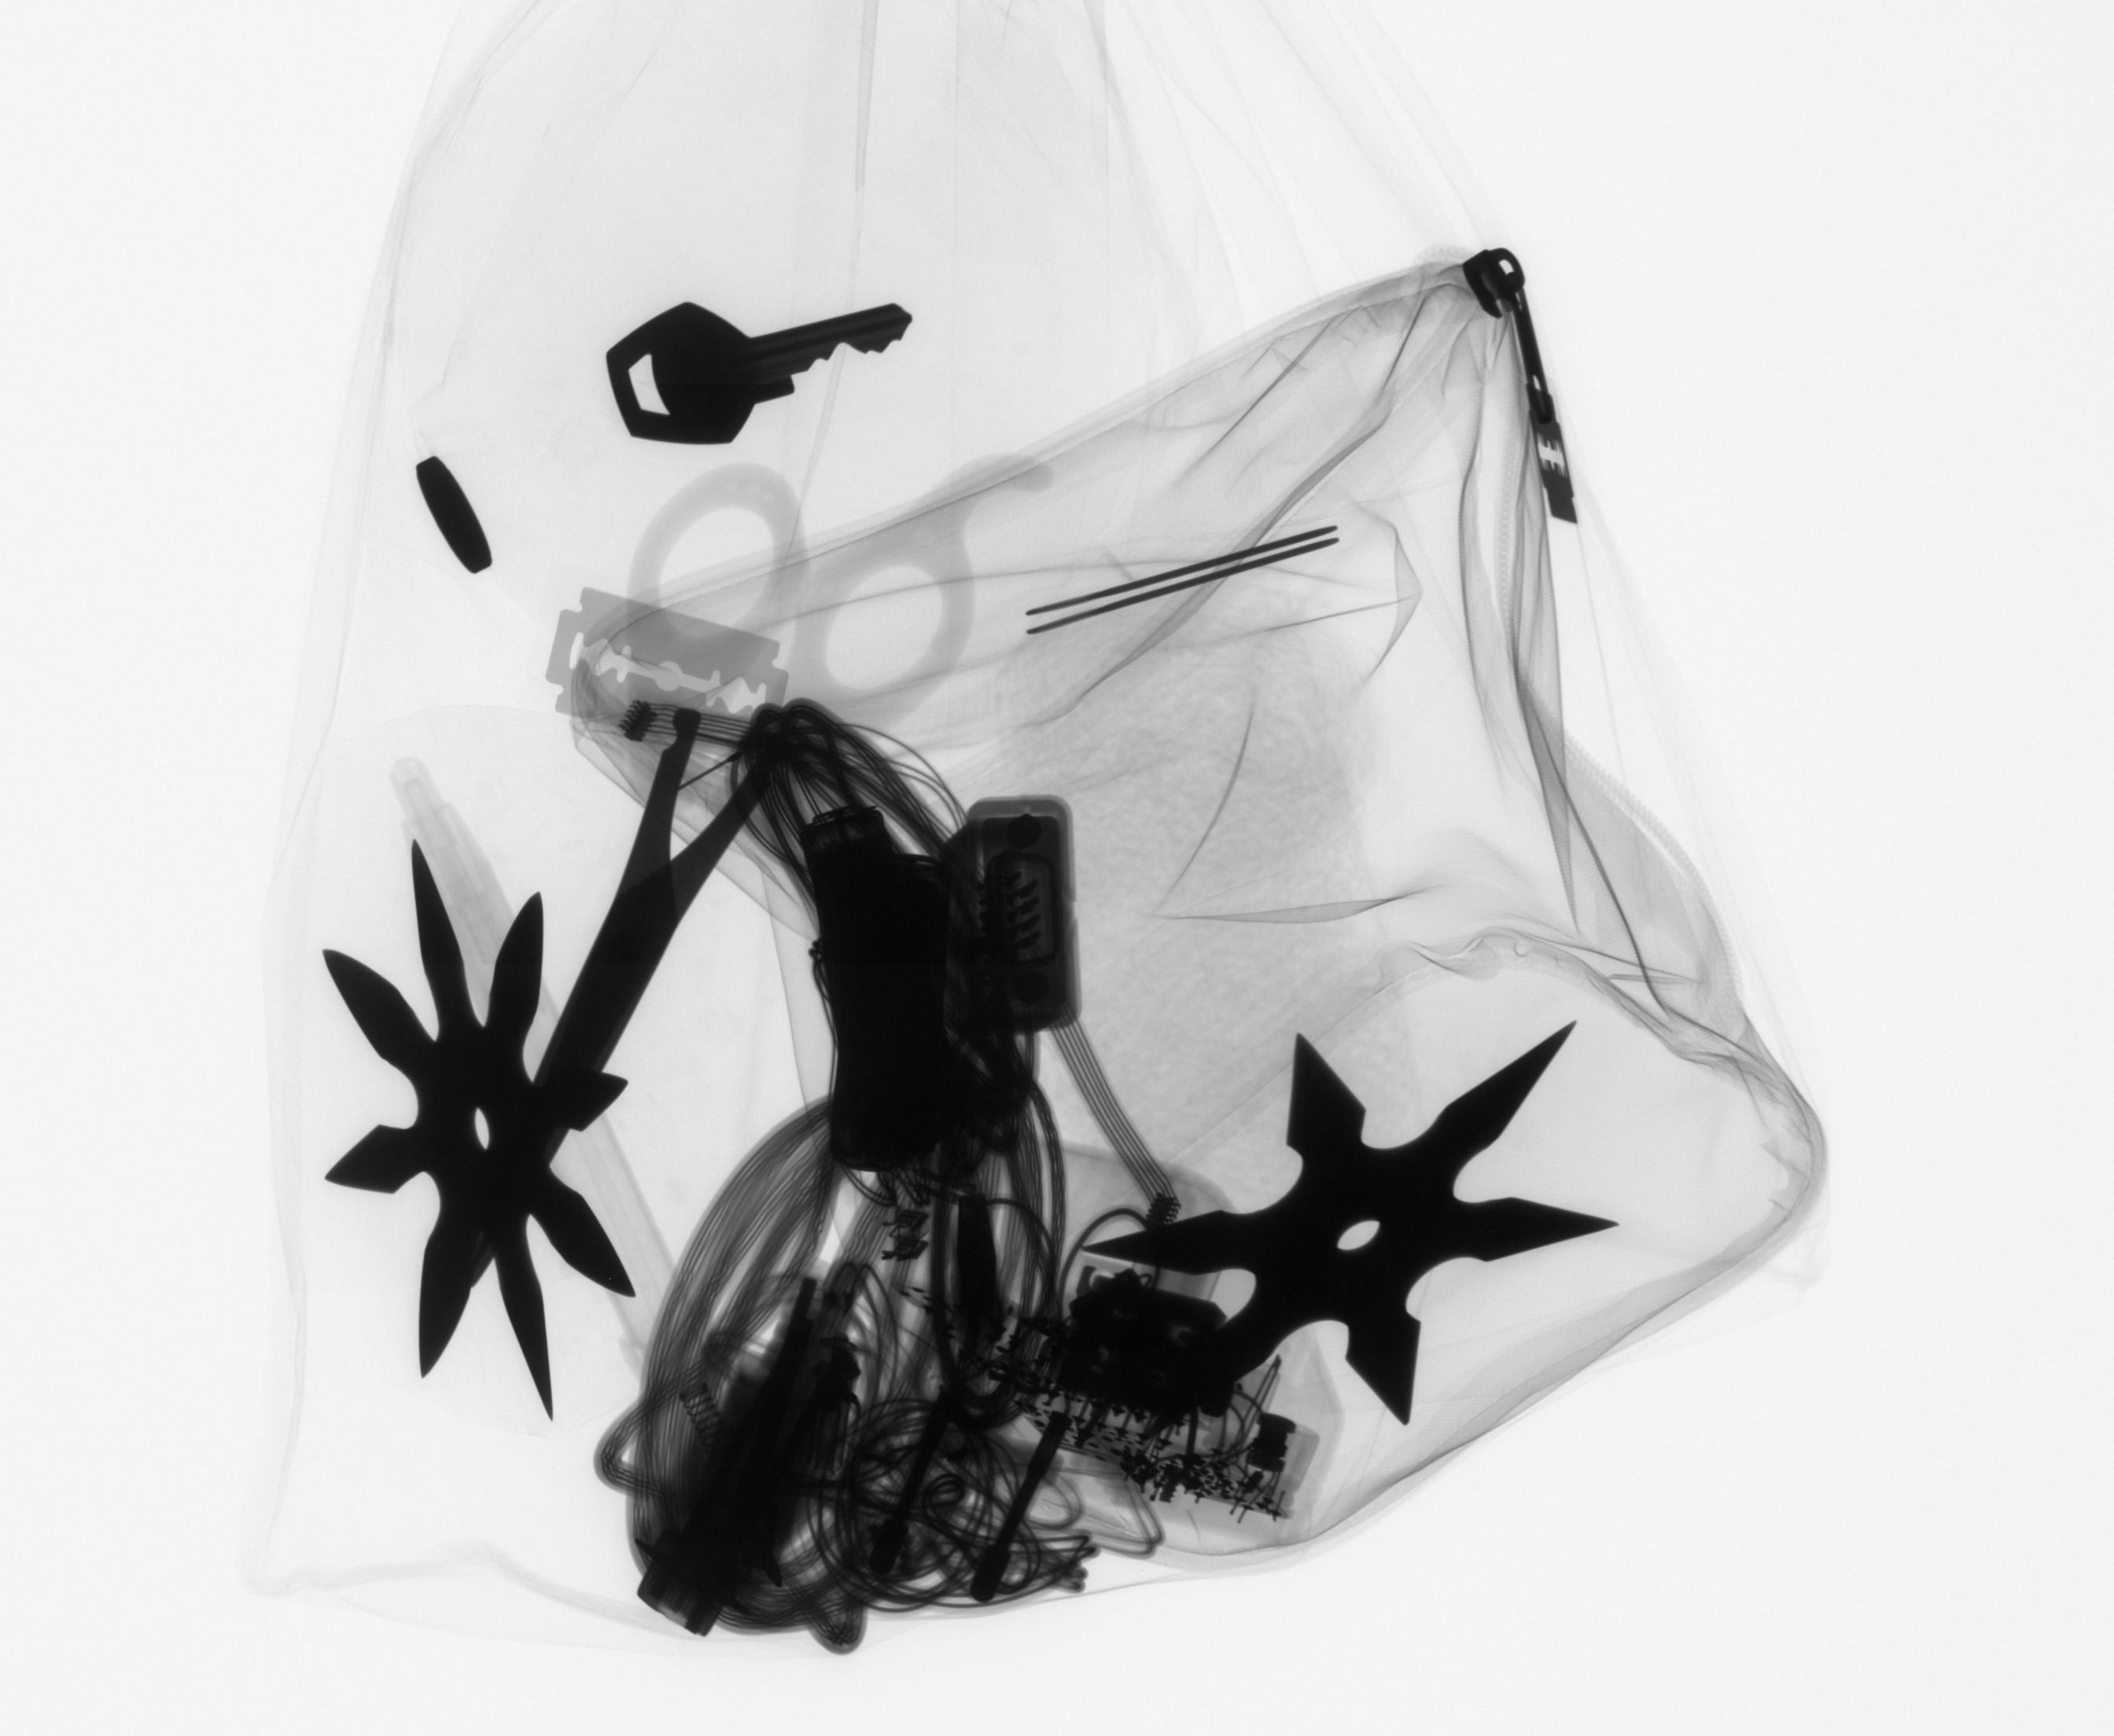RazorBlade: (539, 581, 797, 774)
Shuriken: (1069, 1011, 1629, 1443), (311, 829, 650, 1431)
